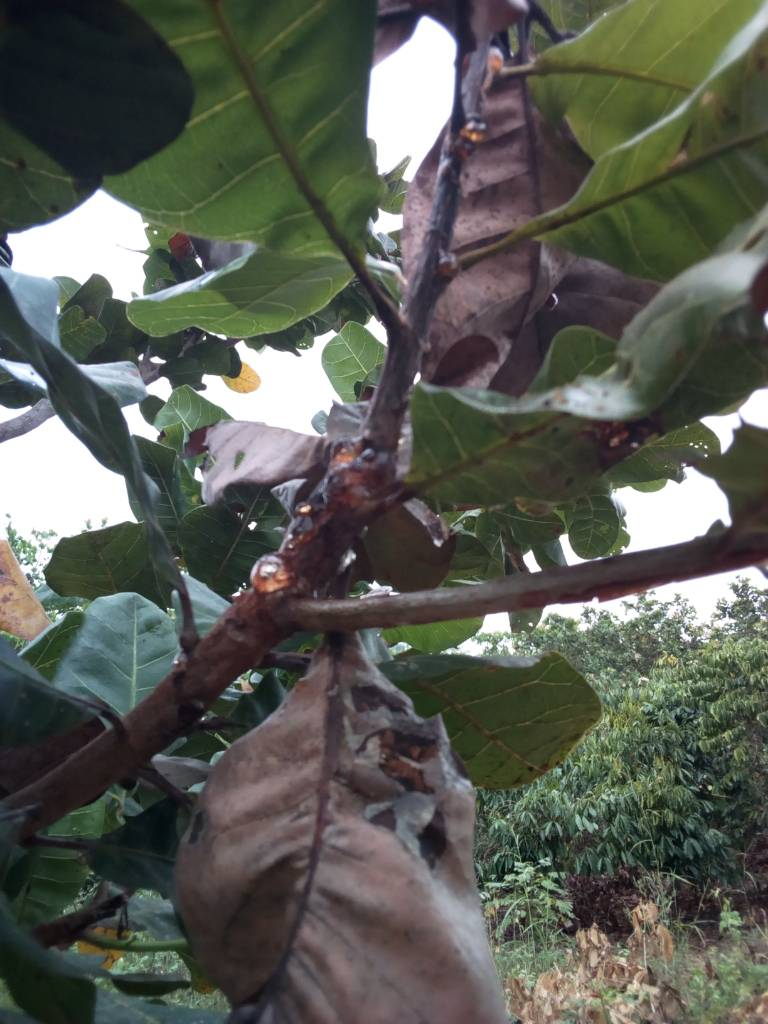Gommose: (240, 446, 393, 608)
